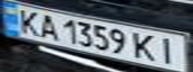1: (57, 17, 78, 45)
3: (72, 19, 93, 48)
5: (90, 22, 109, 52)
9: (106, 26, 130, 56)
A: (33, 12, 60, 41)
I: (154, 35, 184, 66)
K: (9, 7, 45, 35), (130, 30, 160, 62)
